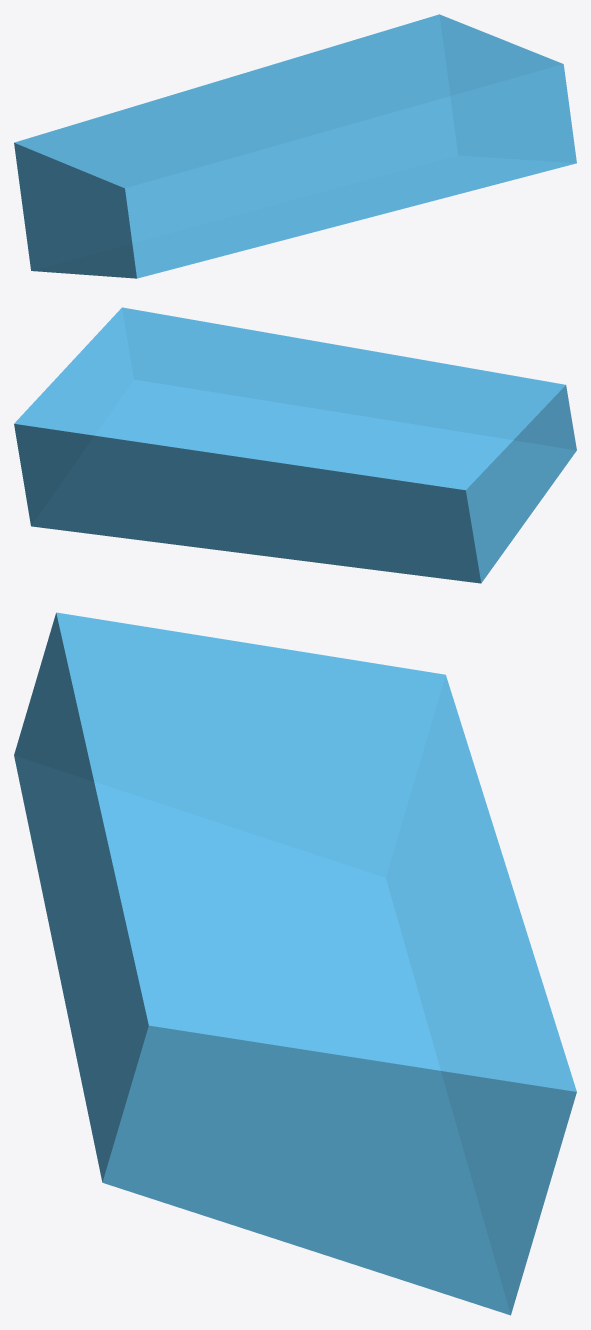
The model's file is Event_420107950_HErechit_68.fbx.
3 views of the same model, one above another, from view 1: azimuth 30°, elevation 25°; view 2: azimuth 150°, elevation 25°; view 3: azimuth 270°, elevation 25° (orthographic). The views are drawn at different scales.
Parts seen in each view (by area): view 1: Model; view 2: Model; view 3: Model.
Part boxes in pixels (x1,y1,x2,y2): Model: (14, 14, 576, 278); Model: (14, 307, 576, 583); Model: (14, 612, 576, 1315).
Size of the model in its own units: 1.11 by 0.3999 by 0.6651.
